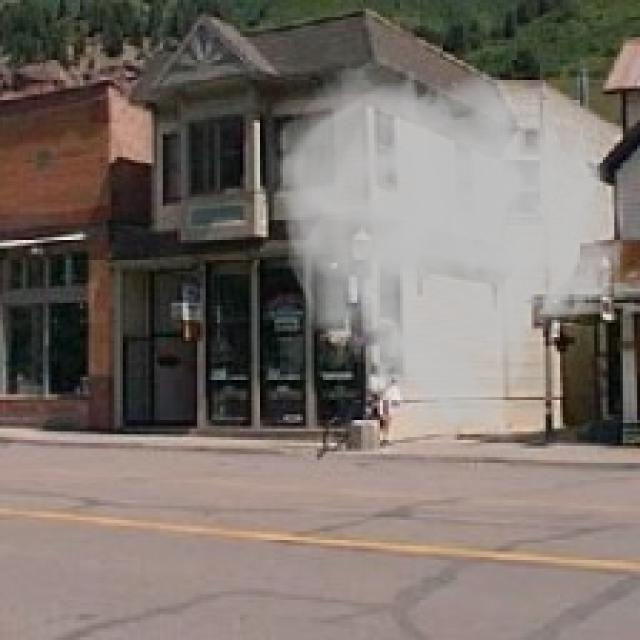Smoke: (268, 54, 628, 454)
